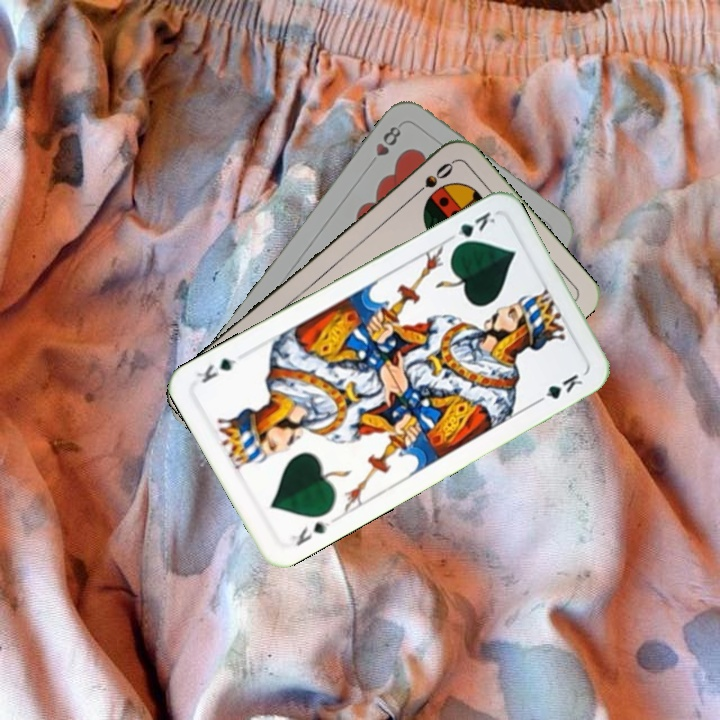GK: (443, 207, 498, 251), (286, 515, 338, 549)
H8: (371, 122, 404, 159)
SO: (407, 157, 456, 201)
